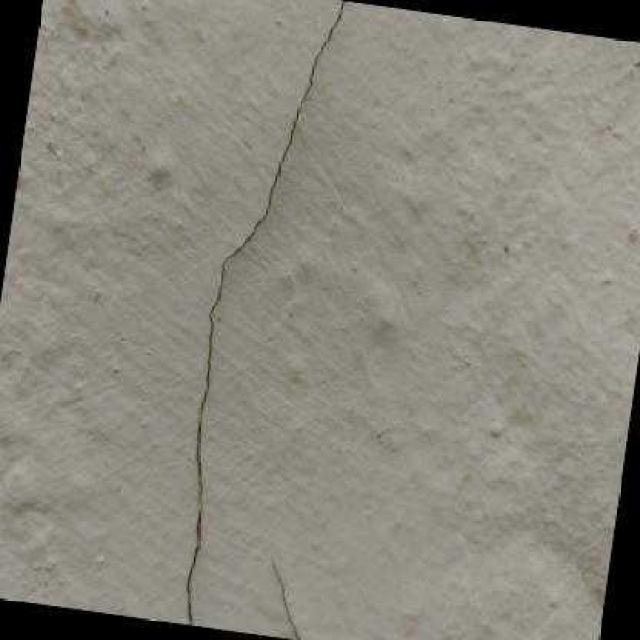D00: (186, 0, 346, 624), (272, 556, 299, 640)
